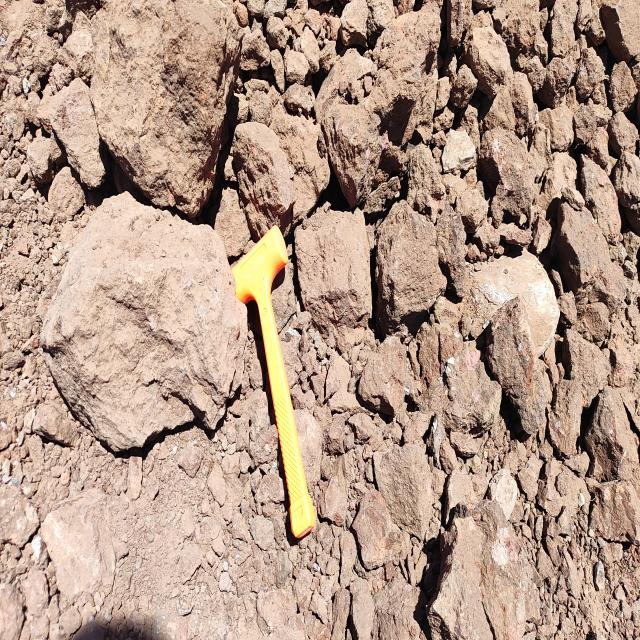Orange_hammer: (229, 223, 317, 540)
